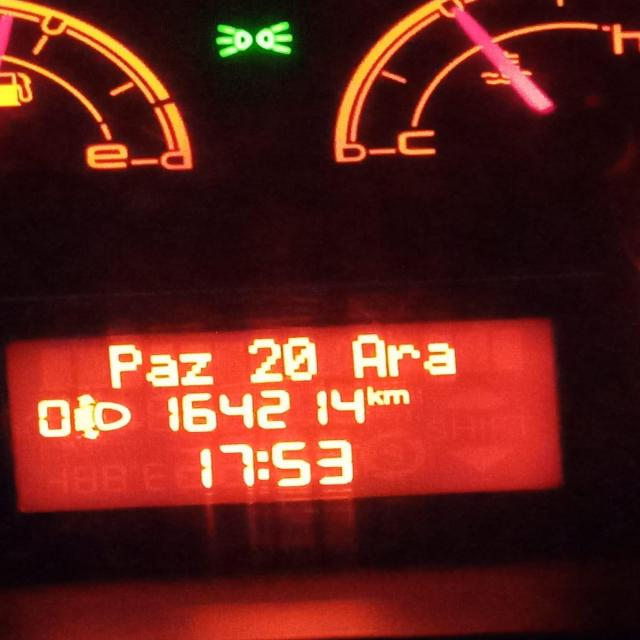odometer: (4, 313, 576, 514)
